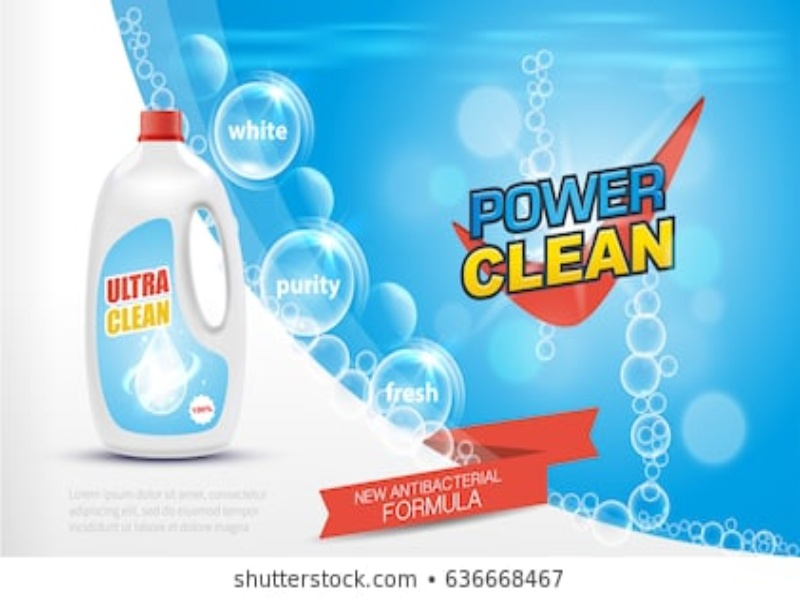detergent-bottle: (84, 110, 248, 459)
